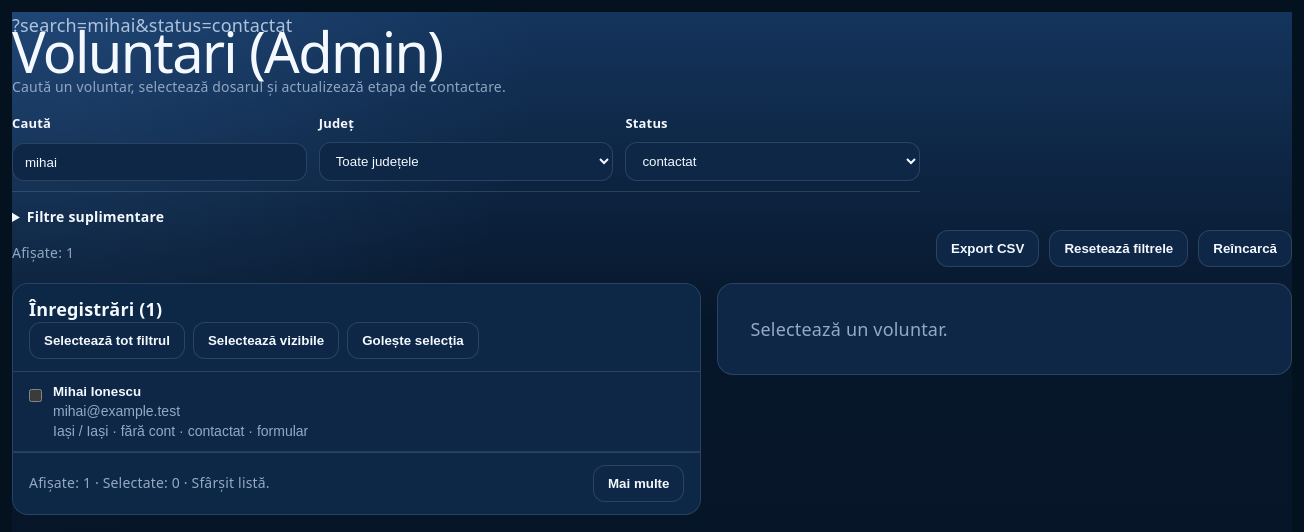
Test: VolunteersAdminPage › reads filters from the URL and keeps the URL updated when filters change
Check: the text "Afișate: 1" is shown, box [12, 244, 74, 262]
Check: the field labelled "Caută" holds "mihai", box [12, 143, 307, 181]
Select "Iași" in the dropdown labelled "Județ". click: (466, 162)
box: [319, 142, 613, 181]
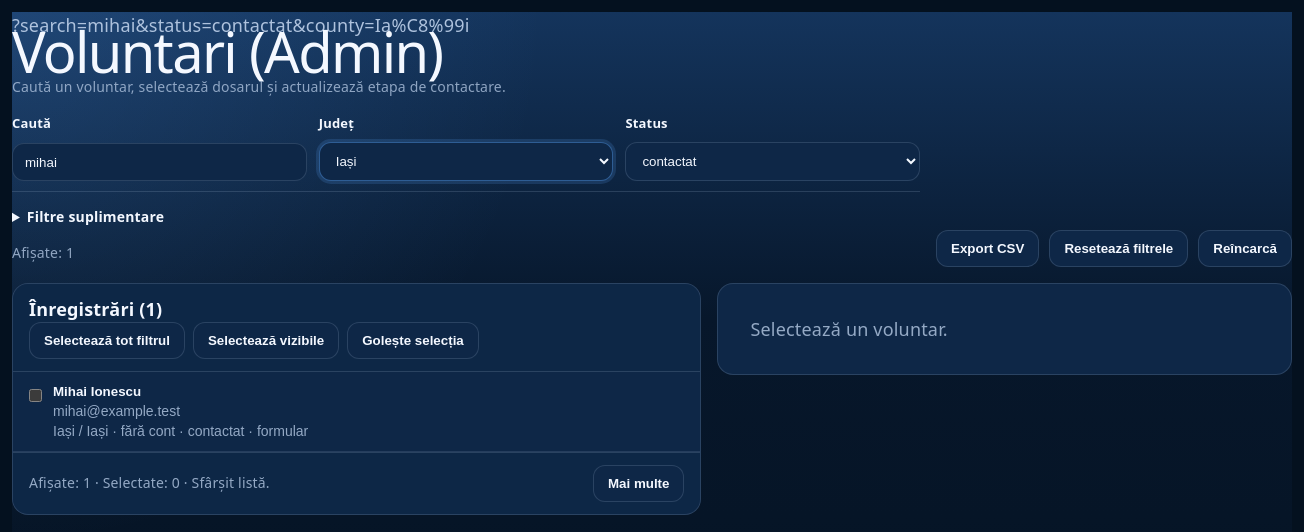
Check: the text with test id "location-search" reads "?search=mihai&status=contactat&county=Ia%C8%99i", box [12, 13, 470, 37]
